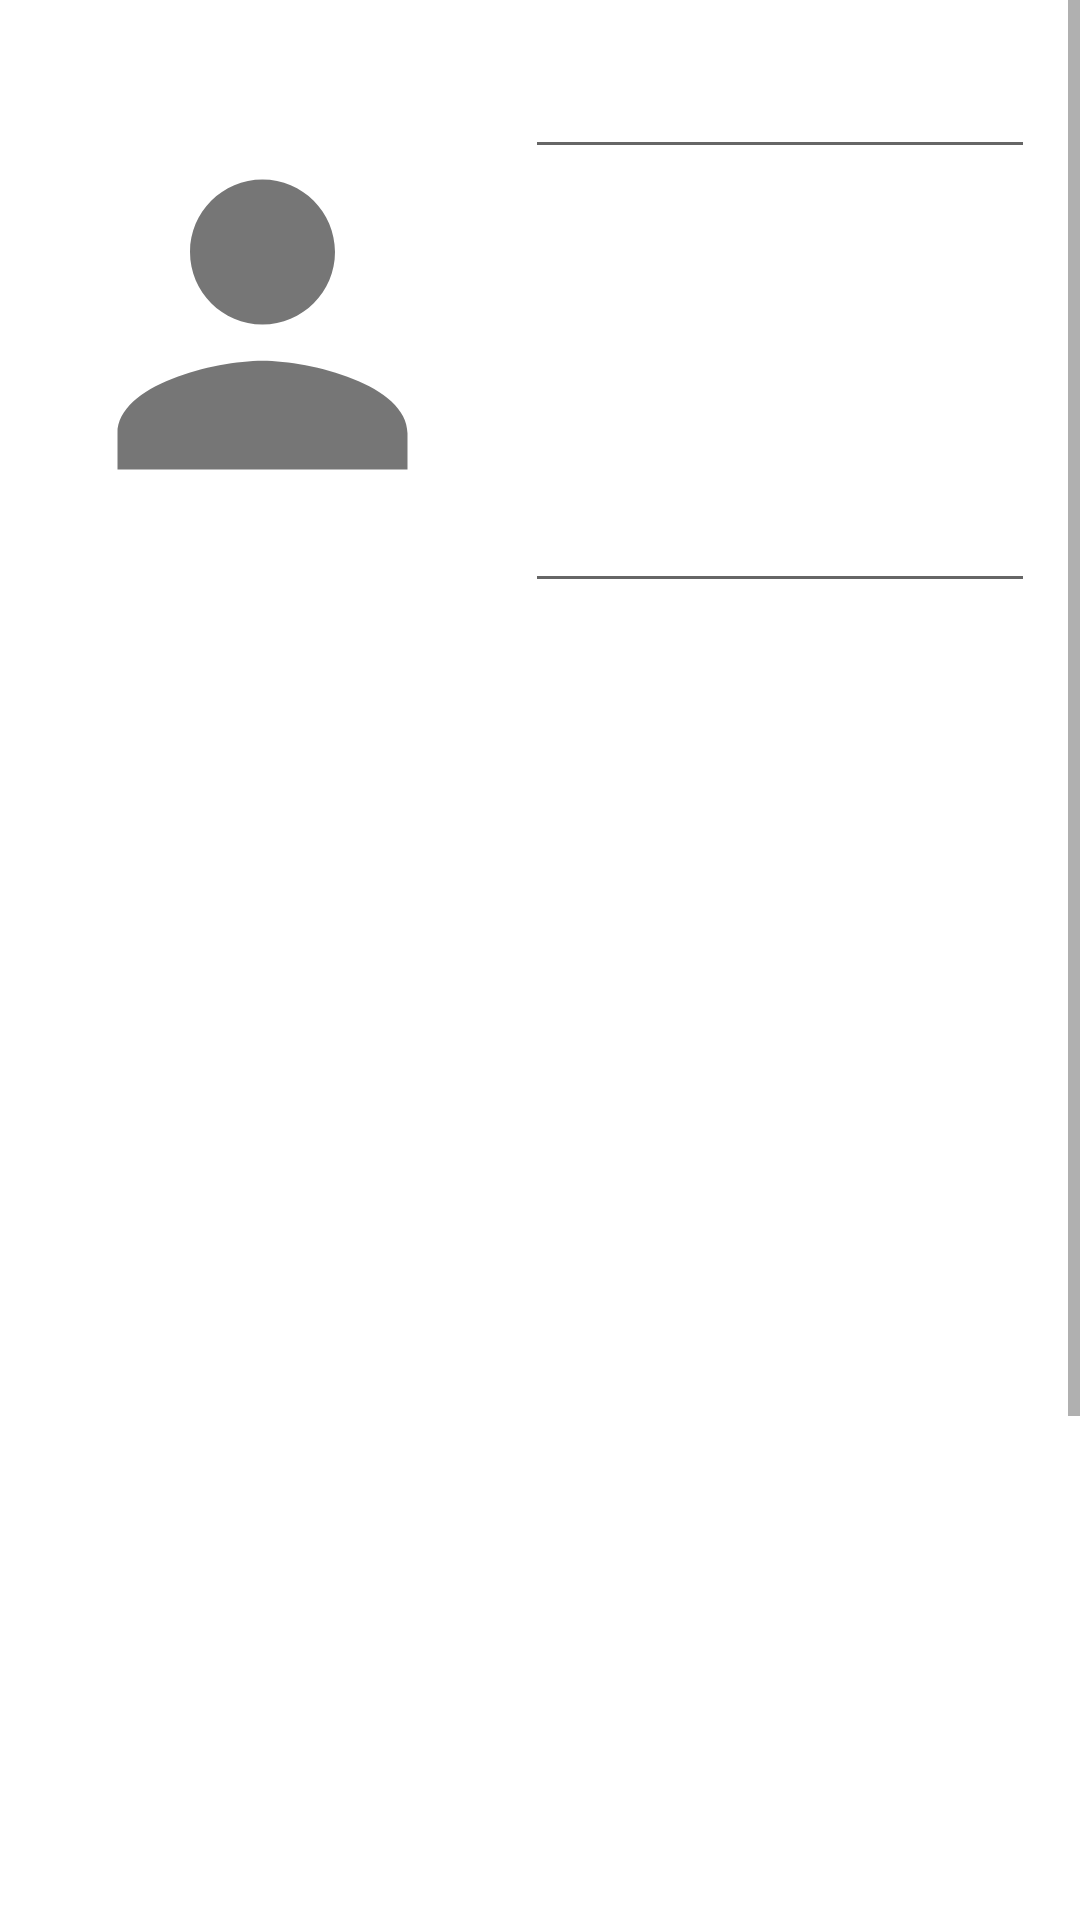

Where to tap for icons on this 1080px x 1920px app screen, as point (x, y):
person: point (262, 324)
